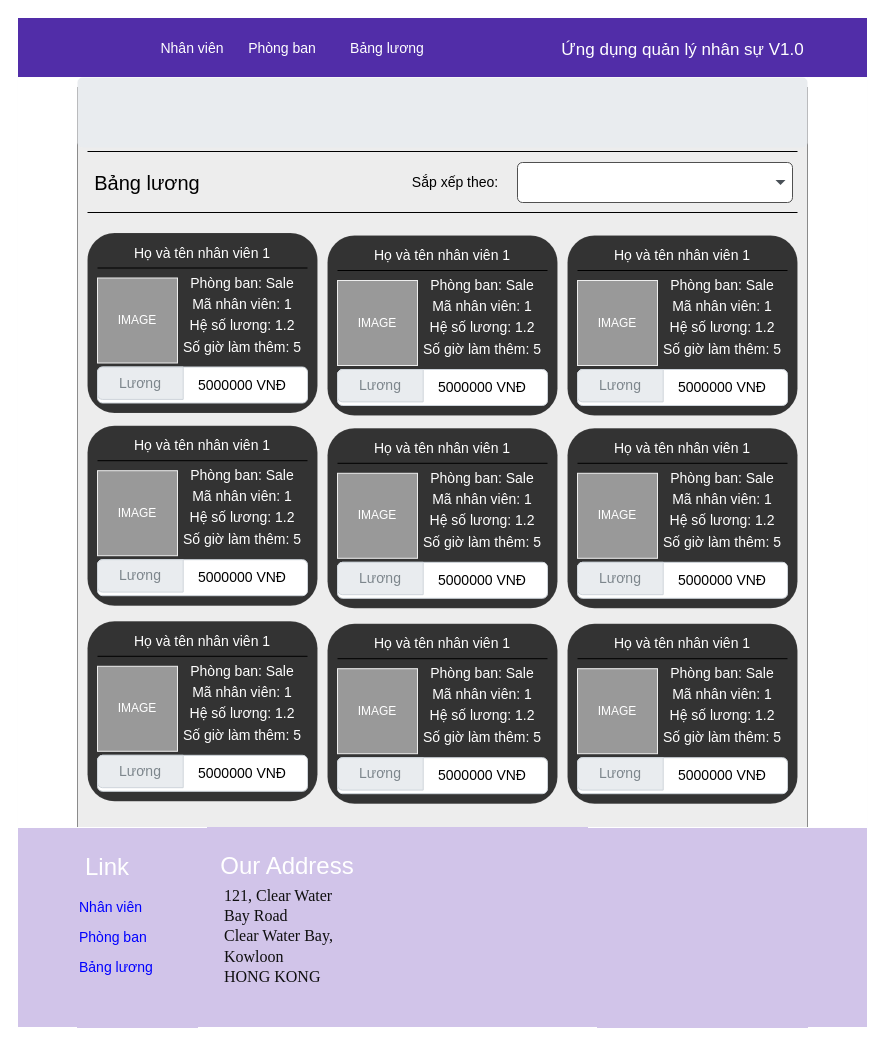
The diagram is 885 pixels wide and 1045 high, and some of its shapes have lost their labels. The shapes that lost their labels are listed below. From the top down, each one's centre as x and y in pixels, then its label:
At point (442, 47): "LOGO".
At point (442, 112): "Nhân viên / Bảng lương".
At point (654, 182): "Mã nhân viên".
At point (702, 928): "Social - Icon".
